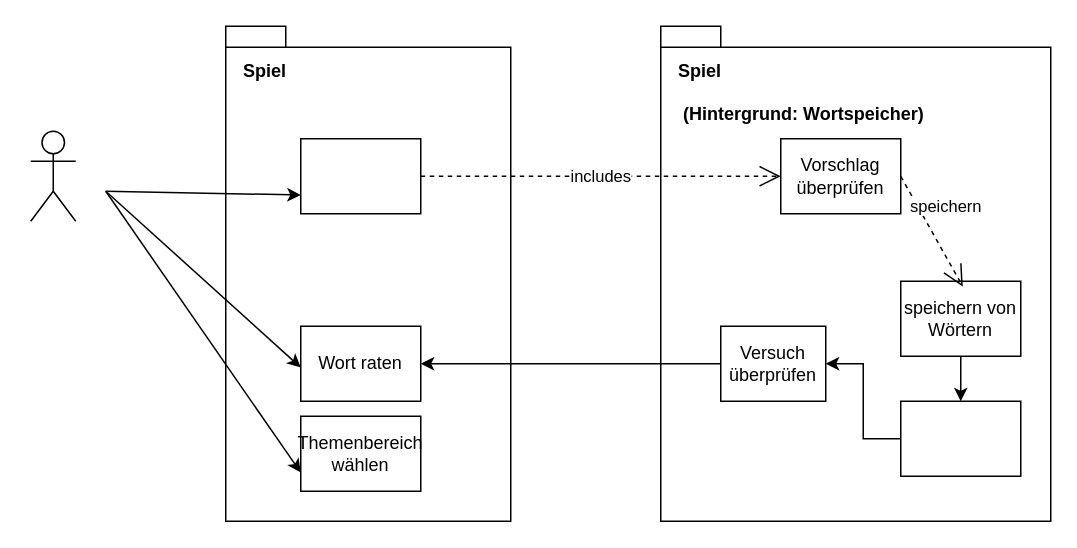
Some shapes in this 1077 by 548 pixel diagram are drawn without their labels. The box of each missing label's shape, as (x1, y1, x2, y2) in pixels:
Spieler: (29, 130, 76, 221)
Wort vorschlagen: (299, 137, 421, 214)
zufällig gewähltes Wort d. Tages: (899, 400, 1021, 476)
